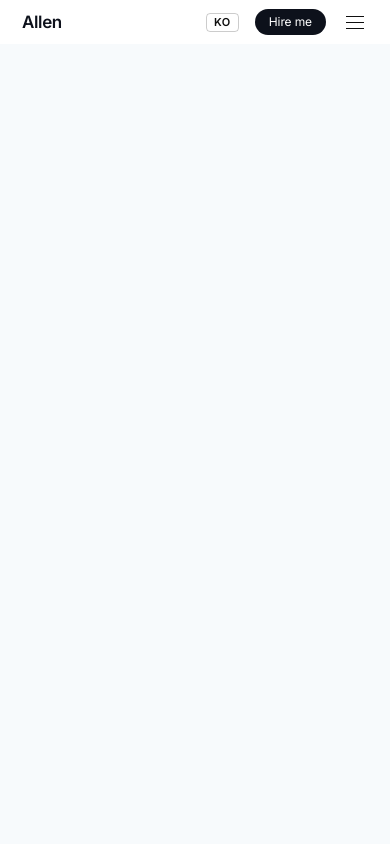
Test: CR-03: mobile menu display style › mobile menu is present in DOM when menuOpen is true
Click the button named "Open menu" at [355, 22], box x1=342 y1=12 x2=368 y2=32
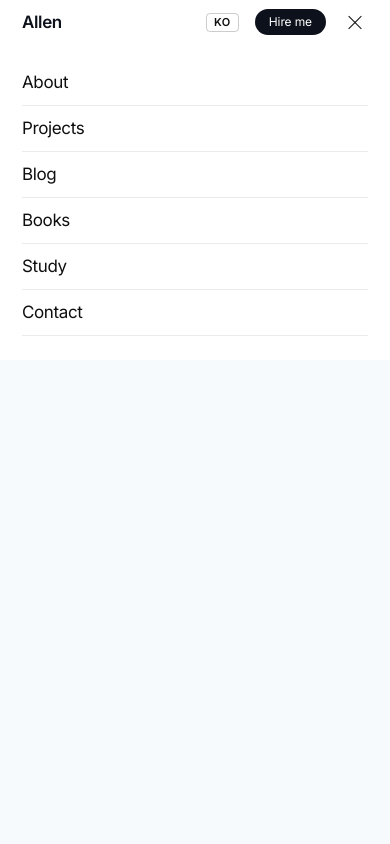
Result: the dialog is shown at x1=0 y1=44 x2=389 y2=360
